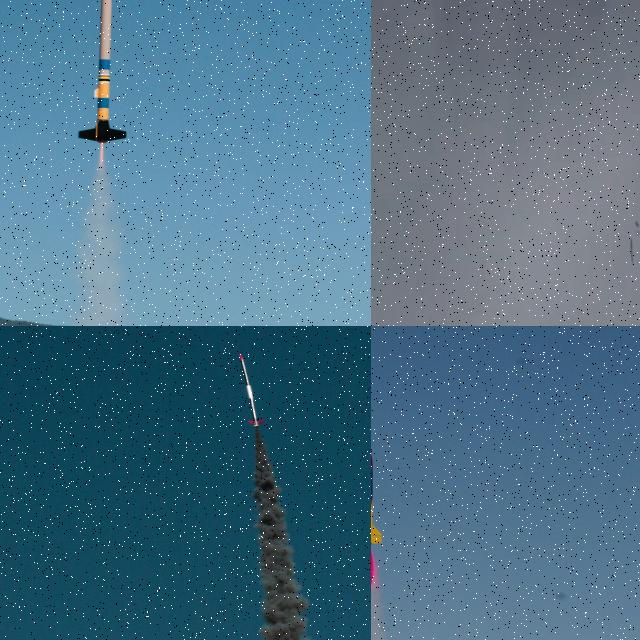Rocket: (77, 0, 128, 145), (238, 353, 264, 428), (371, 448, 382, 545), (630, 238, 634, 264)
